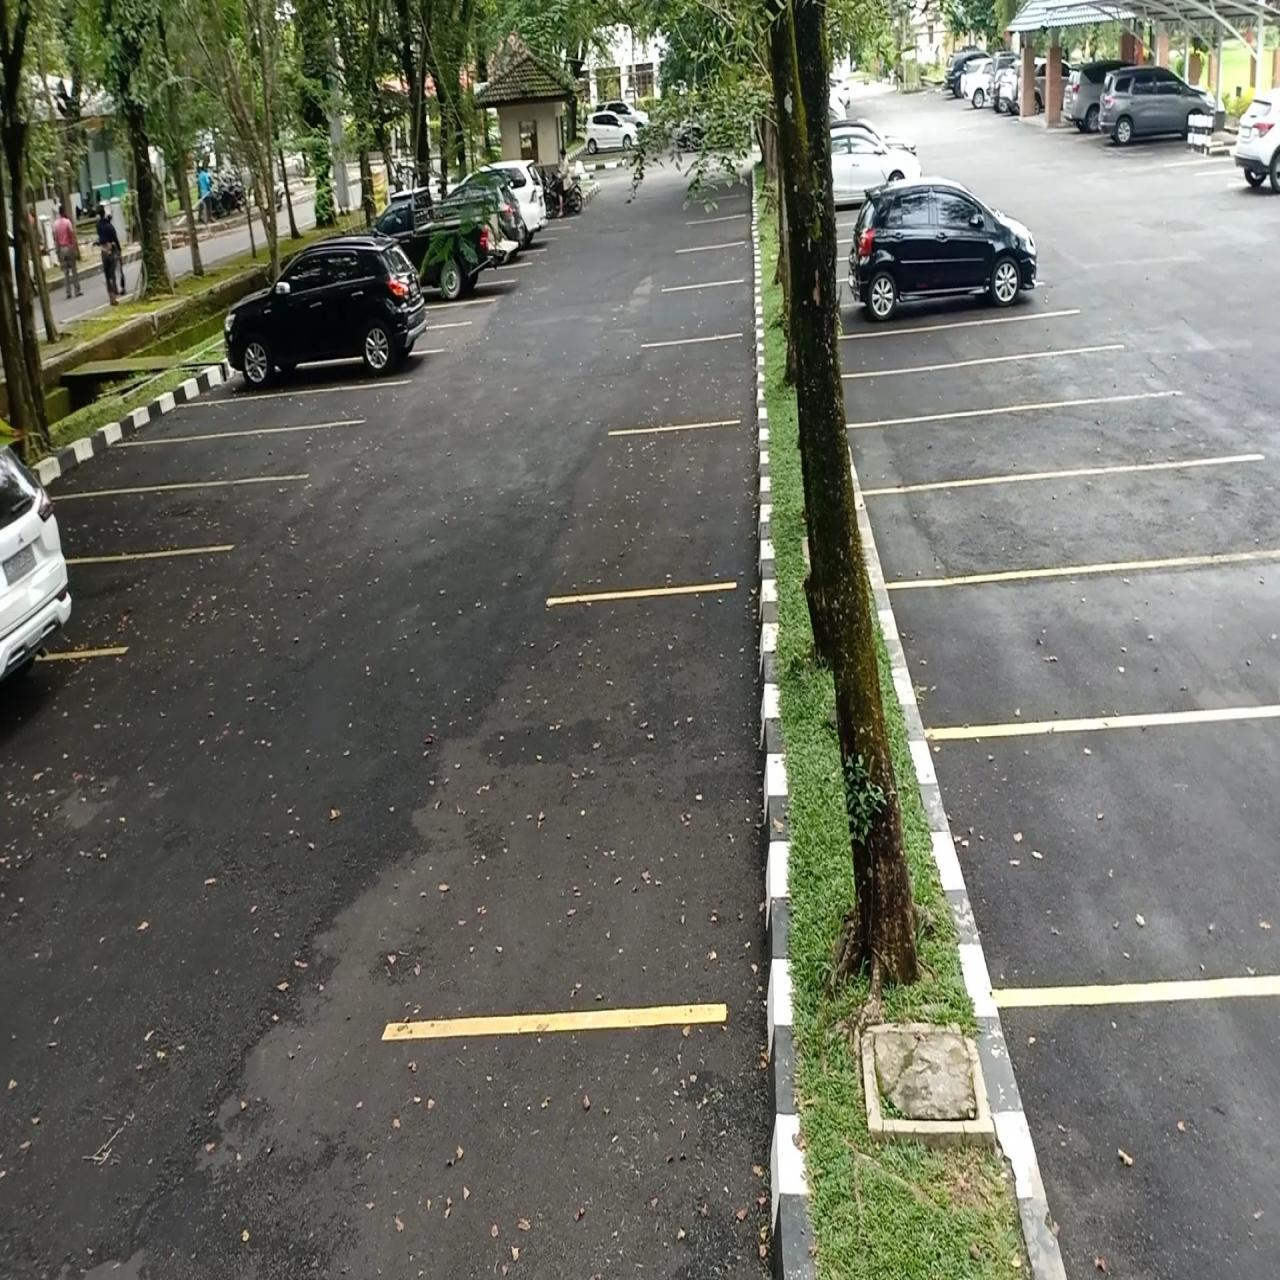empty: (403, 589, 750, 1028), (972, 719, 1280, 998), (905, 563, 1264, 722), (876, 474, 1242, 583), (582, 424, 754, 589), (863, 407, 1196, 483), (849, 362, 1130, 422), (102, 431, 347, 489), (58, 490, 231, 554), (170, 386, 399, 431), (849, 325, 1082, 366), (642, 340, 751, 425), (663, 284, 746, 341), (670, 243, 745, 287)
occupied: (218, 308, 429, 391), (846, 242, 1041, 331)
